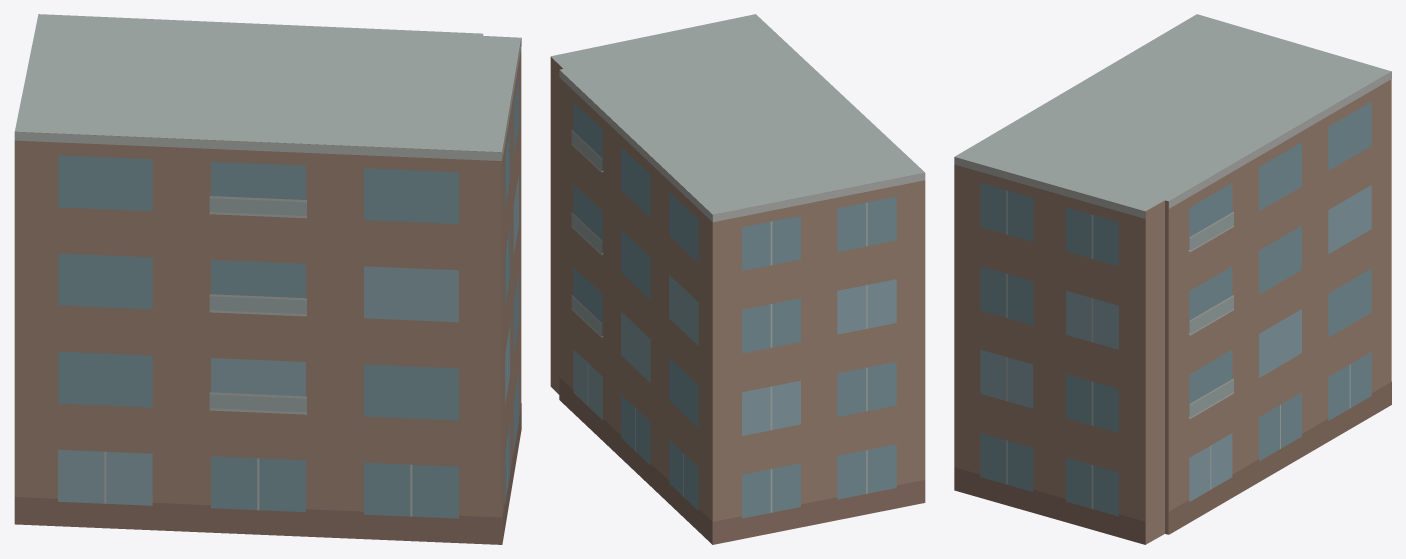
The model's file is survey-upis-32669815.glb.
3 views of the same model, side by side, from view 1: azimuth 30°, elevation 25°; view 2: azimuth 150°, elevation 25°; view 3: azimuth 270°, elevation 25° (orthographic). The views are drawn at different scales.
Parts seen in each view (by area): view 1: survey-upis-32669815.tmp; view 2: survey-upis-32669815.tmp; view 3: survey-upis-32669815.tmp.
Boxes of the visible parts, box(x1,y1,x2,y2) form: survey-upis-32669815.tmp: box(14, 14, 521, 544); survey-upis-32669815.tmp: box(550, 14, 925, 544); survey-upis-32669815.tmp: box(954, 14, 1391, 544).
Size of the model in its own units: 13.59 by 10.7 by 12.73.
